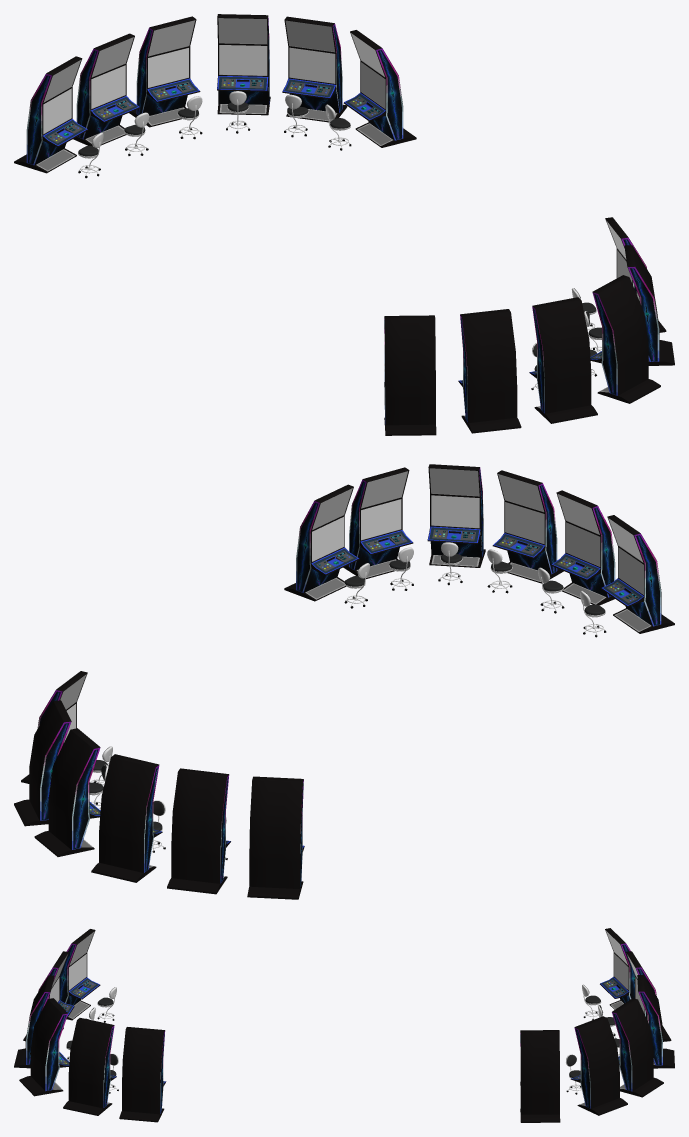
Rendered from SlotAutomatCollectionEndRoom.fbx.
3 renders of one model, top to bottom at view 1: azimuth 30°, elevation 25°; view 2: azimuth 150°, elevation 25°; view 3: azimuth 270°, elevation 25°, orthographic. The views are drawn at different scales.
Parts seen in each view (by area): view 1: SlotMashine.013, SlotMashine.015, SlotMashine.005, SlotMashine.014, SlotMashine.053, SlotMashine.057, SlotMashine.058, SlotMashine.054, SlotMashine.056, SlotMashine.055, SlotMashine.043, SlotMashine.044; view 2: SlotMashine.054, SlotMashine.056, SlotMashine.053, SlotMashine.014, SlotMashine.015, SlotMashine.058, SlotMashine.043, SlotMashine.044, SlotMashine.013, SlotMashine.005, SlotMashine.057, SlotMashine.055; view 3: SlotMashine.044, SlotMashine.043, SlotMashine.055, SlotMashine.057, SlotMashine.058, SlotMashine.014, SlotMashine.005, SlotMashine.056, SlotMashine.053, SlotMashine.015, SlotMashine.013, SlotMashine.054 (+1 smaller).
Part boxes in pixels (box(x1,y1,x2,y2)): SlotMashine.013: box(458, 309, 521, 433); SlotMashine.015: box(529, 297, 597, 423); SlotMashine.005: box(384, 315, 436, 435); SlotMashine.014: box(590, 275, 660, 403); SlotMashine.053: box(129, 16, 200, 127); SlotMashine.057: box(282, 16, 347, 122); SlotMashine.058: box(217, 14, 270, 115); SlotMashine.054: box(73, 33, 140, 145); SlotMashine.056: box(14, 56, 87, 173); SlotMashine.055: box(343, 30, 416, 147); SlotMashine.043: box(624, 245, 674, 365); SlotMashine.044: box(605, 217, 666, 332); SlotMashine.054: box(167, 768, 230, 894); SlotMashine.056: box(247, 776, 304, 899); SlotMashine.053: box(91, 754, 162, 882); SlotMashine.014: box(427, 464, 485, 567); SlotMashine.015: box(492, 470, 563, 583); SlotMashine.058: box(34, 728, 100, 856); SlotMashine.043: box(343, 467, 413, 579); SlotMashine.044: box(284, 484, 359, 601); SlotMashine.013: box(551, 490, 615, 605); SlotMashine.005: box(601, 515, 674, 633); SlotMashine.057: box(14, 700, 71, 826); SlotMashine.055: box(21, 671, 87, 783); SlotMashine.044: box(119, 1027, 166, 1122); SlotMashine.043: box(63, 1018, 116, 1115); SlotMashine.055: box(520, 1030, 560, 1122); SlotMashine.057: box(570, 1016, 627, 1115); SlotMashine.058: box(612, 998, 663, 1097); SlotMashine.014: box(19, 998, 69, 1096); SlotMashine.005: box(60, 929, 100, 1020); SlotMashine.056: box(600, 928, 634, 1009); SlotMashine.053: box(637, 975, 674, 1068); SlotMashine.015: box(14, 975, 54, 1068); SlotMashine.013: box(23, 951, 74, 1041); SlotMashine.054: box(626, 951, 671, 1041).
Bounding box in the file's own units: 932 × 272 × 2110.
8 materials, 5 textured.
